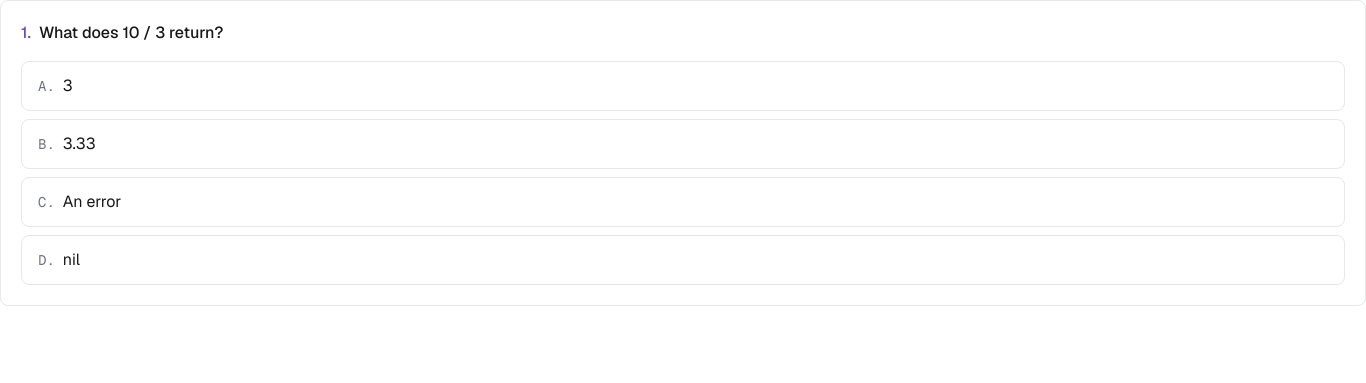
QuizQuestion › shows explanation after answering
Expected: the text "Division always returns a float." is not shown
Click the button "B.3.33" at (79, 144), box x1=21 y1=119 x2=1345 y2=169
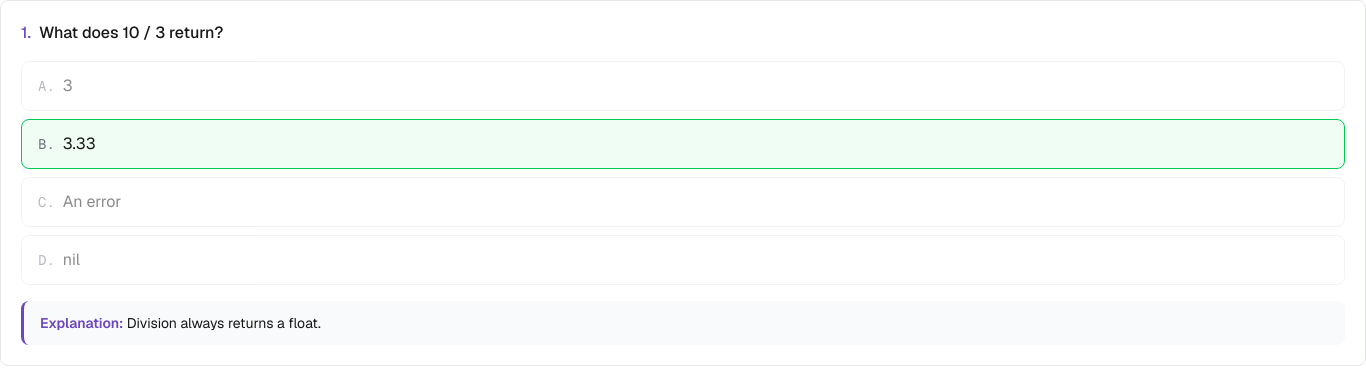
Now the text "Division always returns a float." is shown, box x1=127 y1=314 x2=321 y2=332
